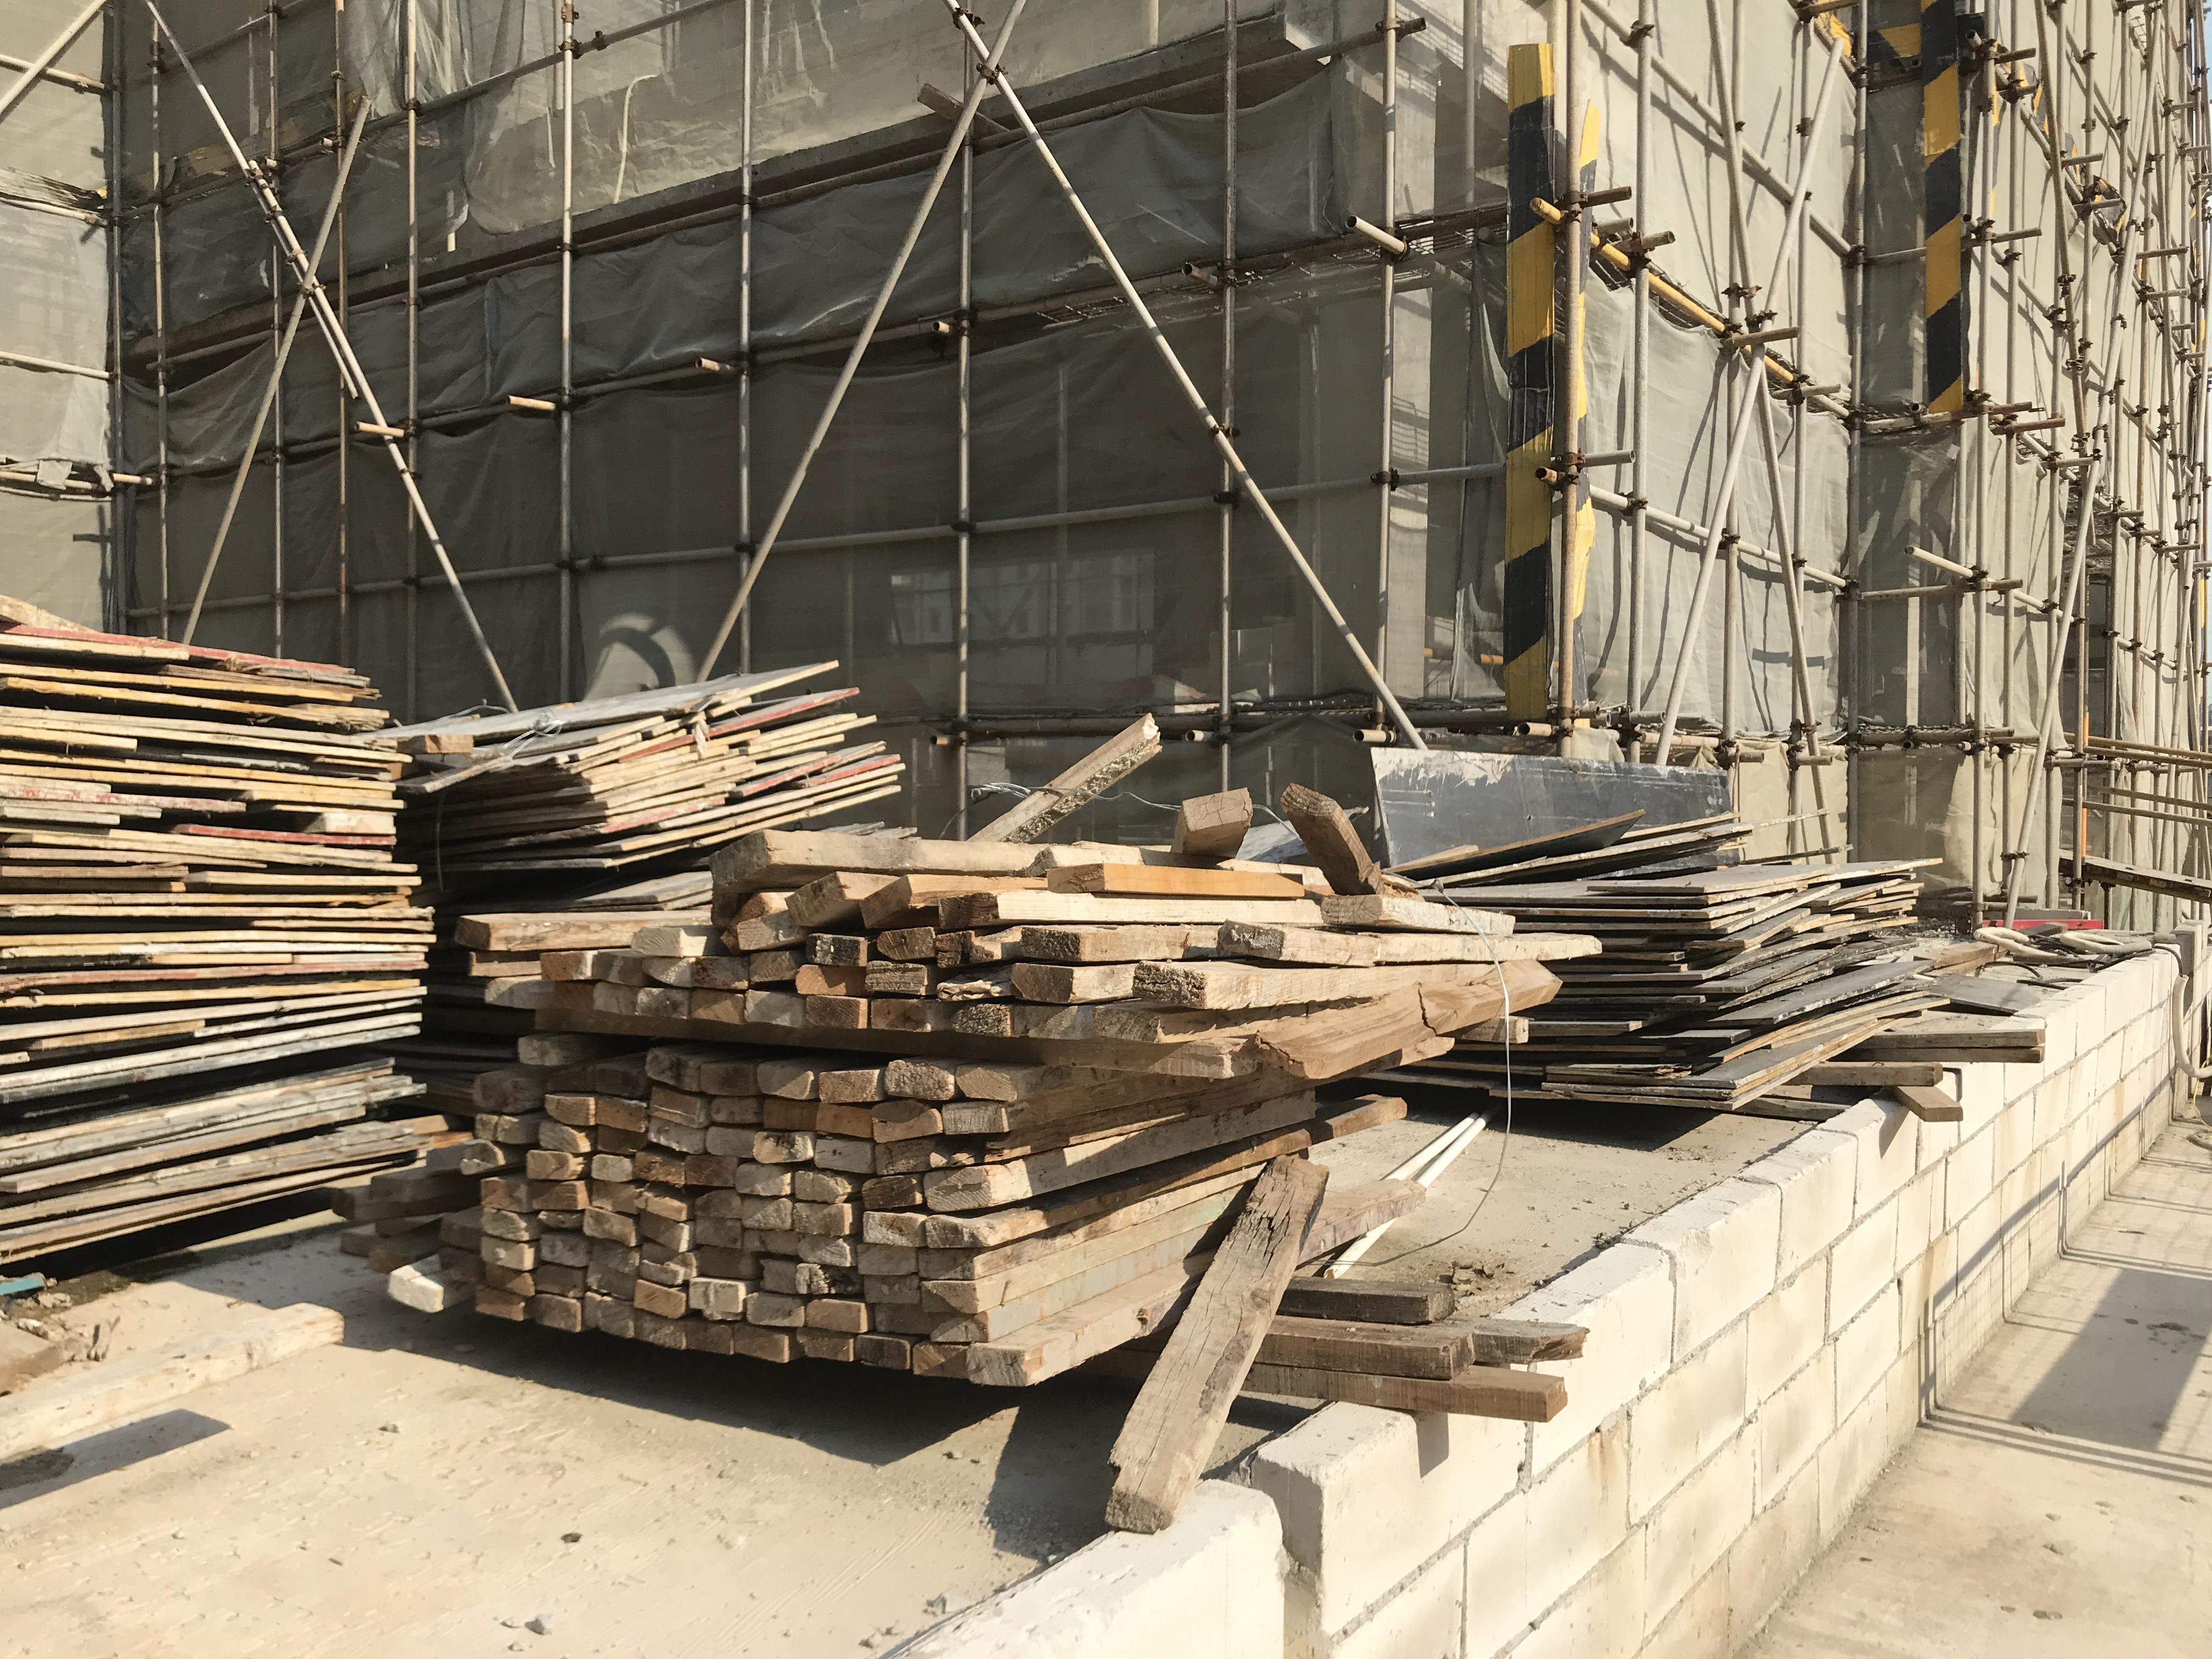board: (0, 629, 432, 1328), (1407, 810, 1947, 1110), (390, 633, 911, 875)
wood: (449, 803, 1590, 1459)
